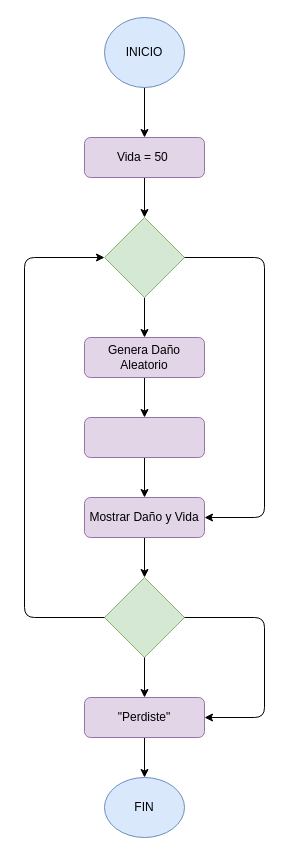
This 290x855 diagram has some shape labels left out. Each missing label, with the centre of its shape:
"Vida < = 0" goes at point (144, 617).
"Vida = Vida - Daño" goes at point (144, 437).
"Vida > 0" goes at point (144, 257).
